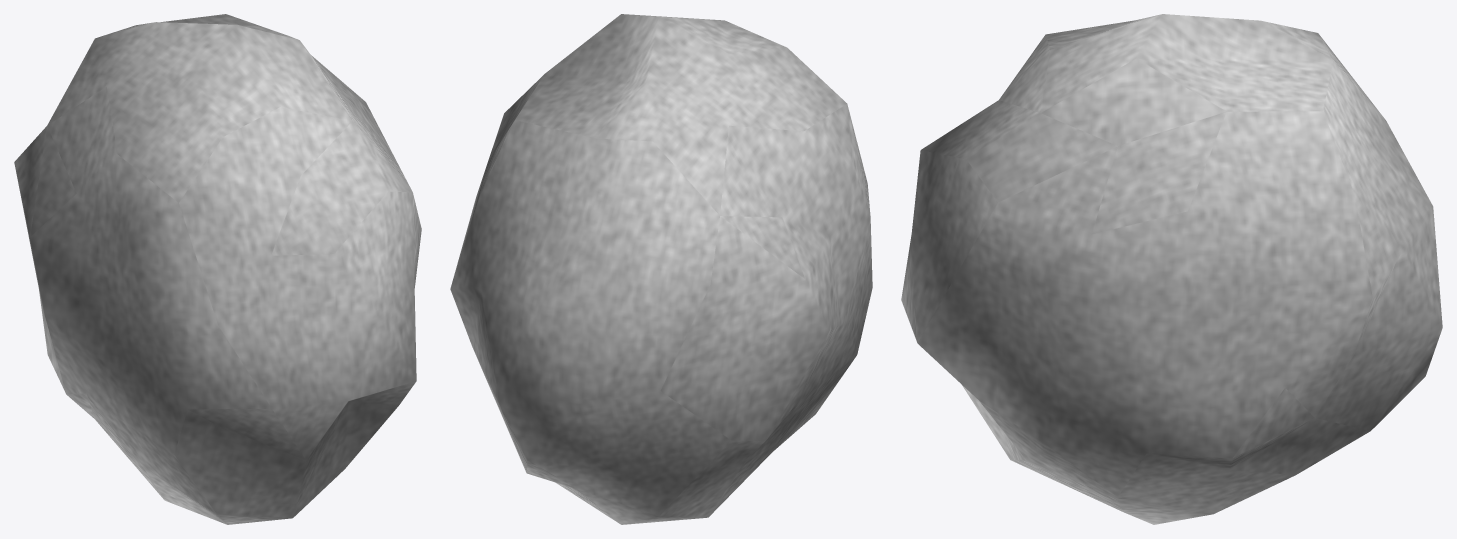
The model's file is LargeAsteroid.fbx.
3 views of the same model, side by side, from view 1: azimuth 30°, elevation 25°; view 2: azimuth 150°, elevation 25°; view 3: azimuth 270°, elevation 25° (orthographic). The views are drawn at different scales.
Visible parts, largest first — view 1: F3:GeoDome1; view 2: F3:GeoDome1; view 3: F3:GeoDome1.
Boxes of the visible parts, x1=… form: F3:GeoDome1: x1=14, y1=14, x2=421, y2=524; F3:GeoDome1: x1=450, y1=14, x2=872, y2=524; F3:GeoDome1: x1=901, y1=14, x2=1442, y2=524.
Size of the model in its own units: 4.7 by 6.65 by 6.36.
1 material, 1 textured.
